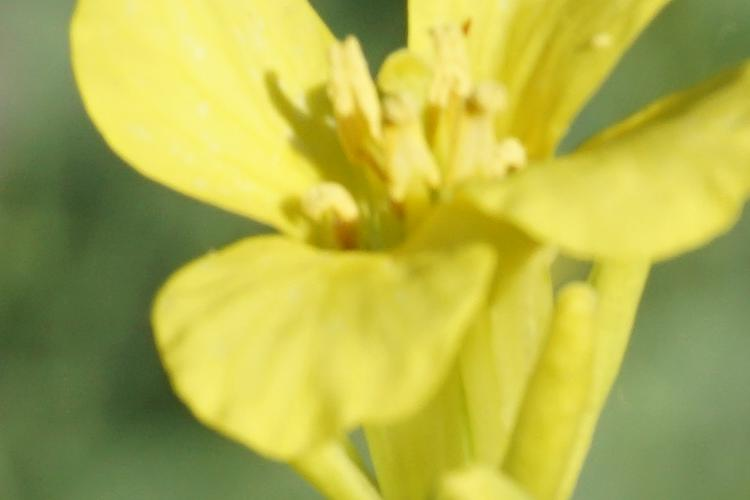yellow: (72, 6, 744, 491)
